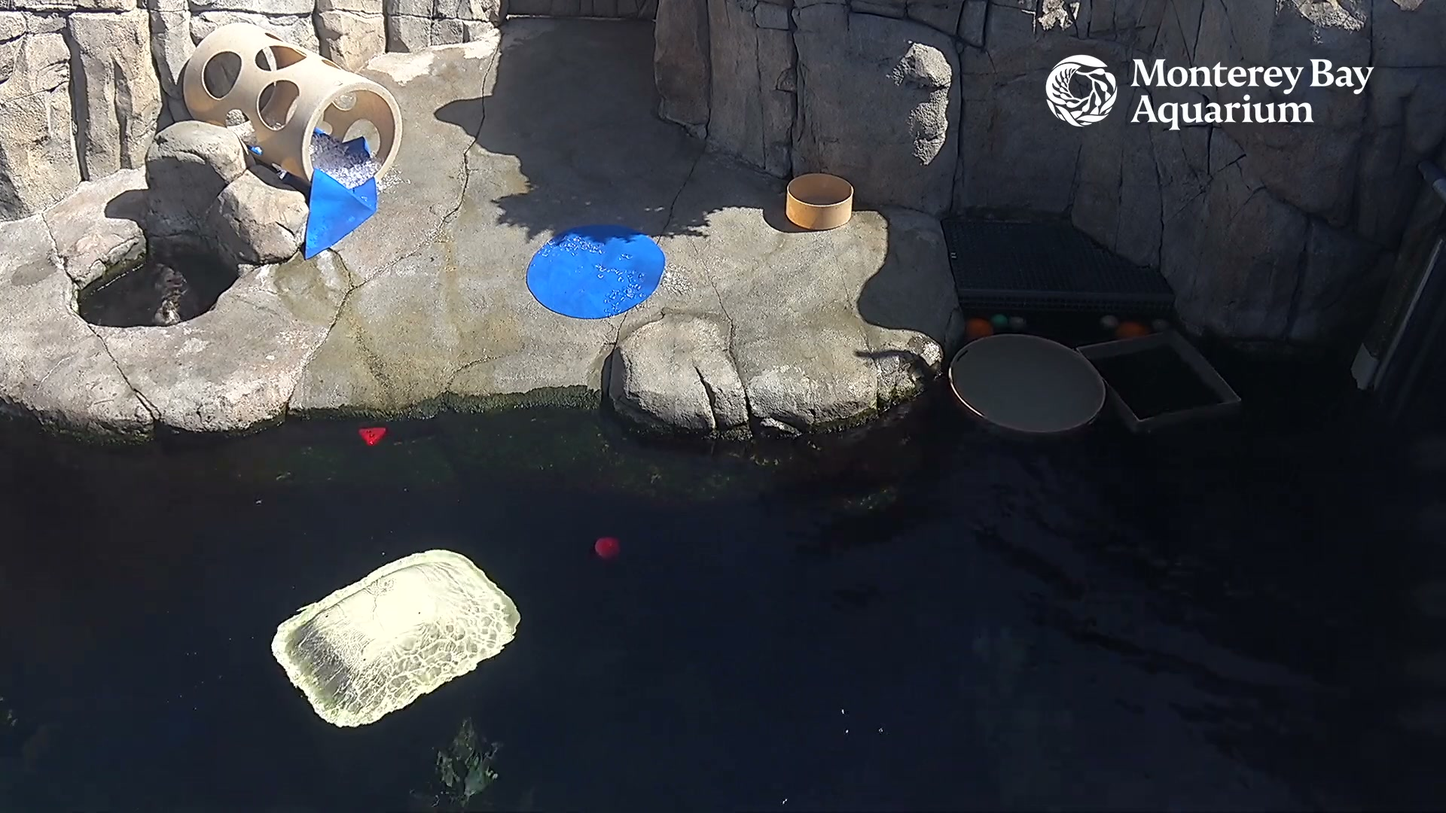Southern Sea Otter: (125, 246, 206, 332)
